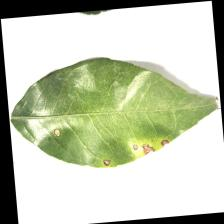canker: (49, 120, 191, 178)
